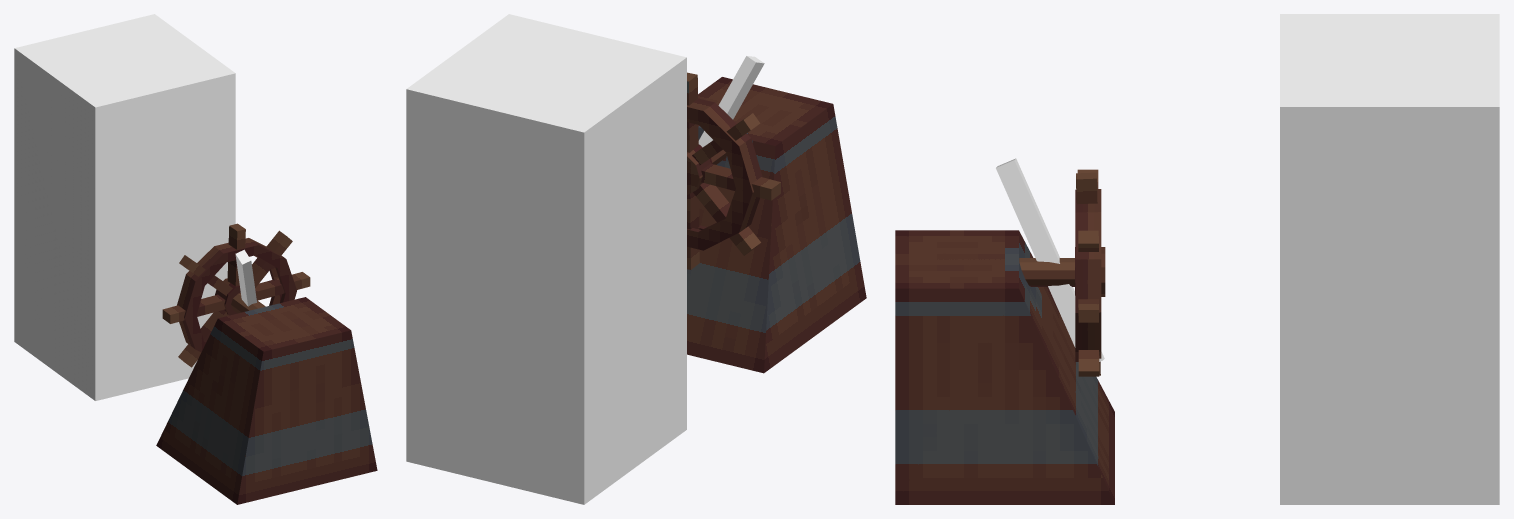
The model's file is Steering Wheel with animations.gltf.
The picture shows the model from 3 angles, left to right: view 1: azimuth 30°, elevation 25°; view 2: azimuth 150°, elevation 25°; view 3: azimuth 270°, elevation 25°; orthographic projection. The views are drawn at different scales.
Parts seen in each view (by area): view 1: Player scale, steering wheel, Wheel Rim, spoke 3, spoke 2, spoke 5, spoke 1, spoke 4; view 2: Player scale, steering wheel, Wheel Rim, spoke 5, spoke 1, spoke 2, spoke 3, spoke 4, Wheel Center; view 3: Player scale, steering wheel, spoke 5, Wheel Rim, Wheel stem, spoke 4, spoke 1.
Part boxes in pixels (x1,y1,x2,y2): Player scale: (14, 14, 235, 400); steering wheel: (156, 297, 377, 504); Wheel Rim: (177, 238, 296, 352); spoke 3: (162, 272, 310, 323); spoke 2: (178, 230, 292, 367); spoke 5: (235, 249, 256, 306); spoke 1: (227, 223, 245, 286); spoke 4: (179, 255, 232, 295); Player scale: (406, 14, 686, 504); steering wheel: (687, 77, 866, 373); Wheel Rim: (687, 98, 762, 250); spoke 5: (698, 56, 764, 147); spoke 1: (687, 72, 699, 269); spoke 2: (693, 183, 760, 255); spoke 3: (701, 163, 780, 200); spoke 4: (692, 113, 760, 165); Wheel Center: (687, 144, 712, 194); Player scale: (1280, 14, 1499, 504); steering wheel: (895, 230, 1114, 504); spoke 5: (996, 158, 1104, 361); Wheel Rim: (1075, 189, 1101, 361); Wheel stem: (1019, 258, 1074, 286); spoke 4: (1077, 169, 1099, 376); spoke 1: (1076, 172, 1100, 375).
Size of the model in its own units: 1 by 2 by 2.75.
Materials: 2 (1 with a texture image).
